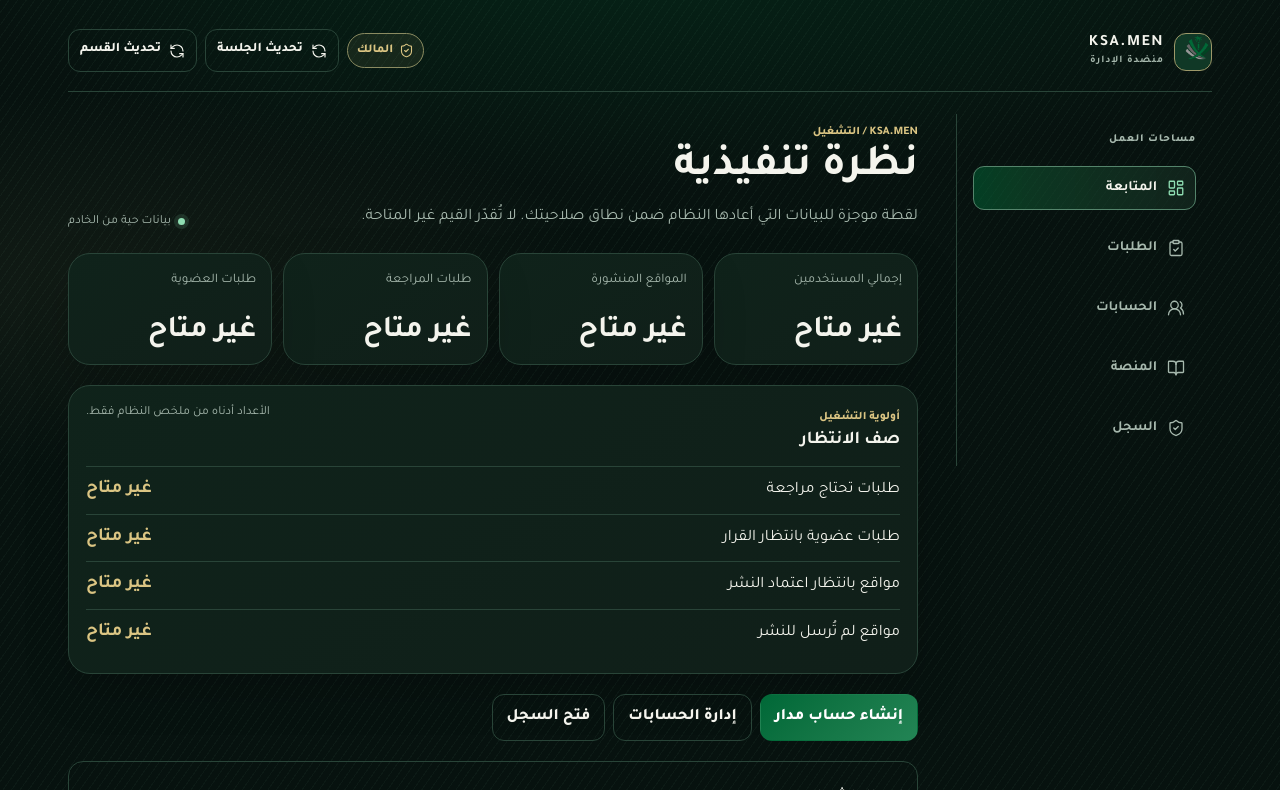
it: one-click administrative publication — DOM and mocked API › publishes from the detail card without opening Reviews or showing false success
The width and height of the screenshot is (1280, 790).
What coordinates should you click on to do the following:
click the button "الحسابات"
I would click on:
 (1084, 308)
Its box is [973,286,1196,330].
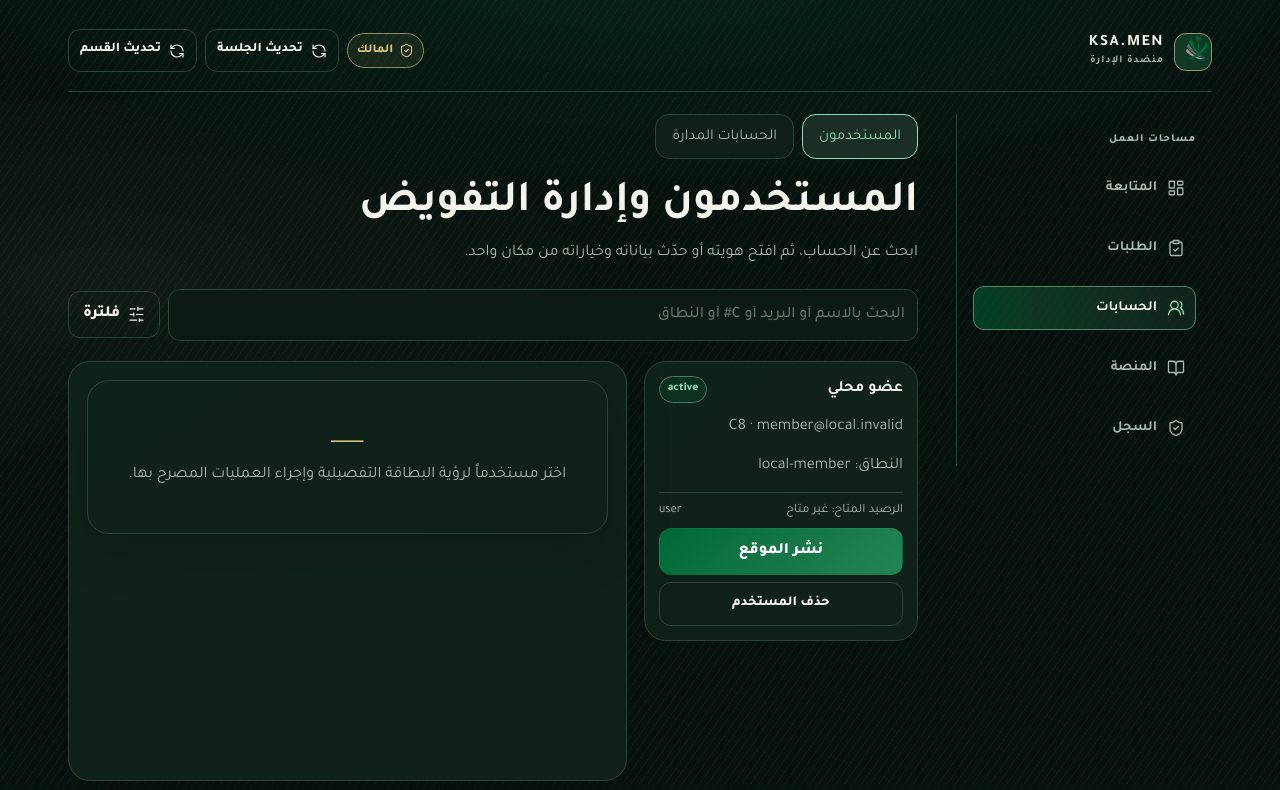
What coordinates should you click on to do the following:
click the button with class "admin-user-card-open"
I would click on:
 (781, 448)
Its box is [659,376,903,521].
(page scrolled)
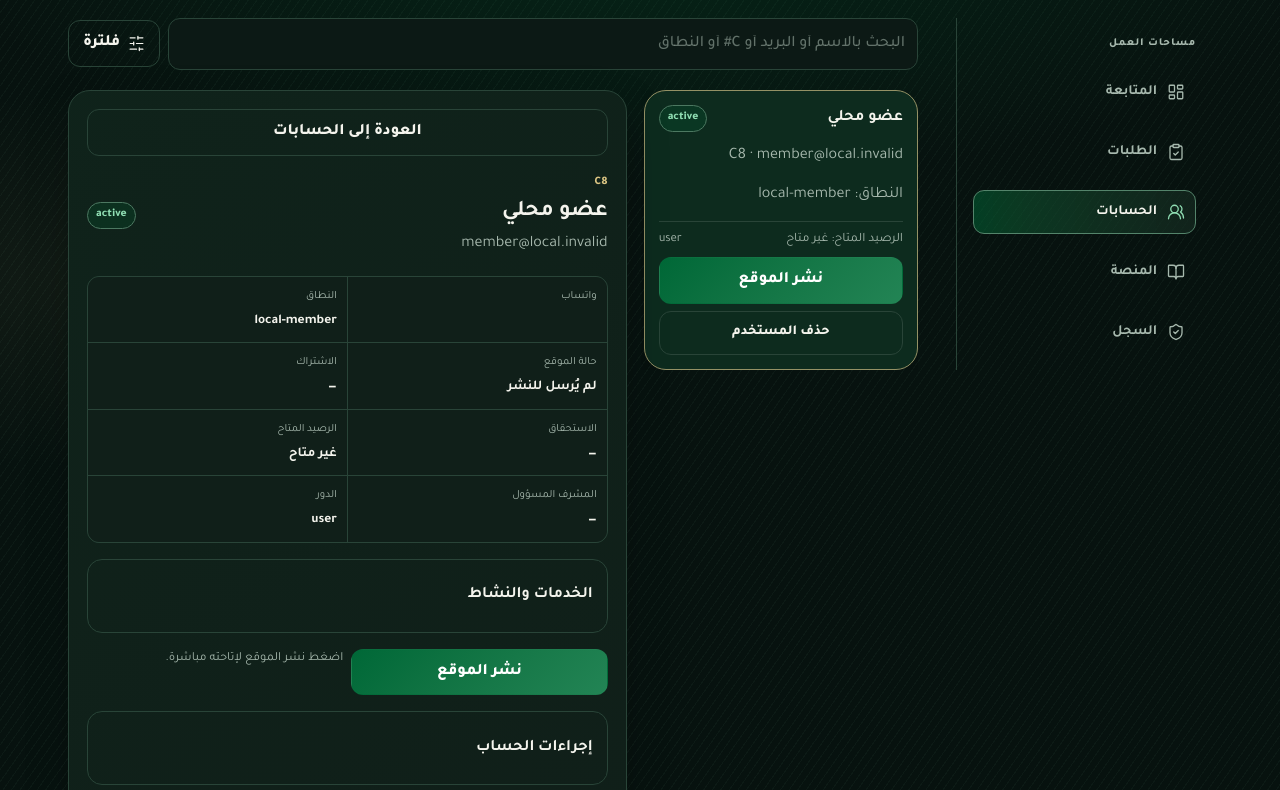
What coordinates should you click on to do the following:
click the button "نشر الموقع" next to "اضغط نشر الموقع لإتاحته مباشرة."
I would click on:
 (479, 672)
Its box is [351,649,608,695].
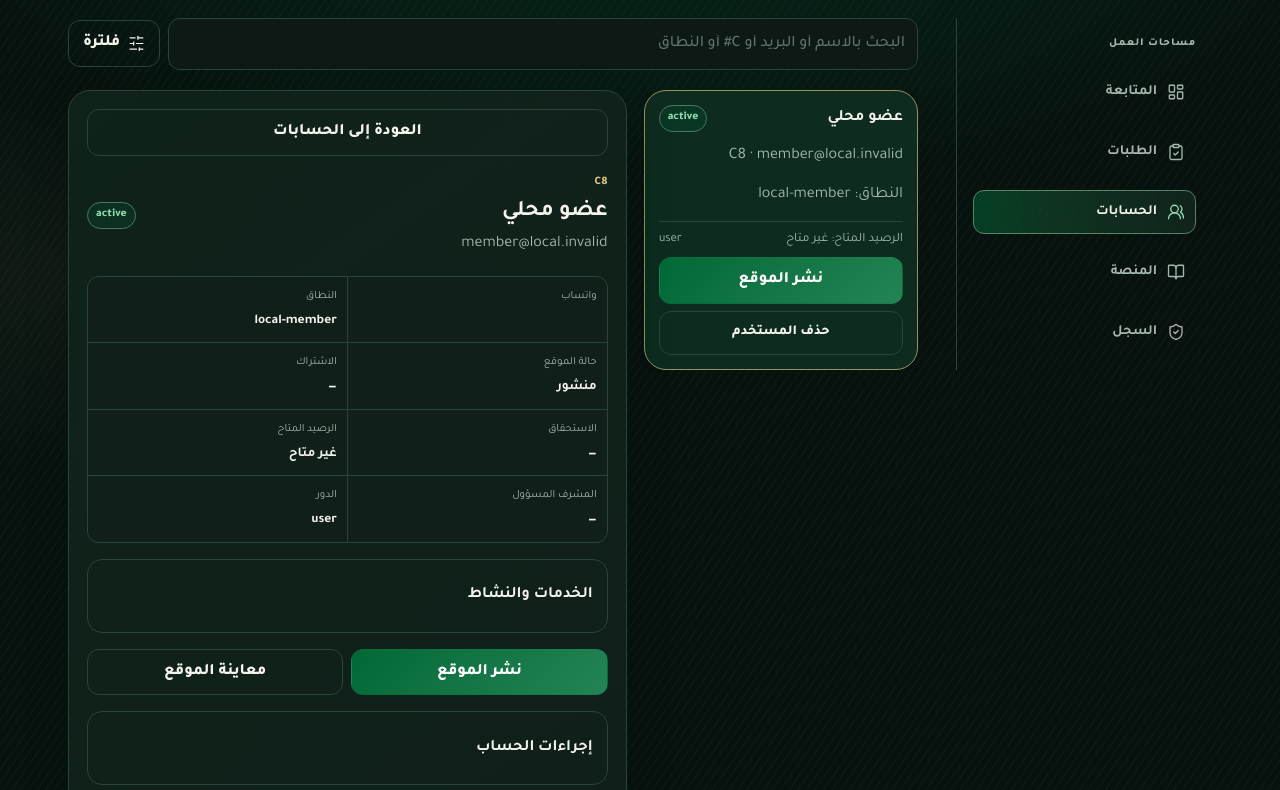
Now the element with class "admin-user-detail" shows "منشور", box [557,380,597,394]
Now the link to "https://local-member.ksa.men" is shown, box [87,649,343,695]
